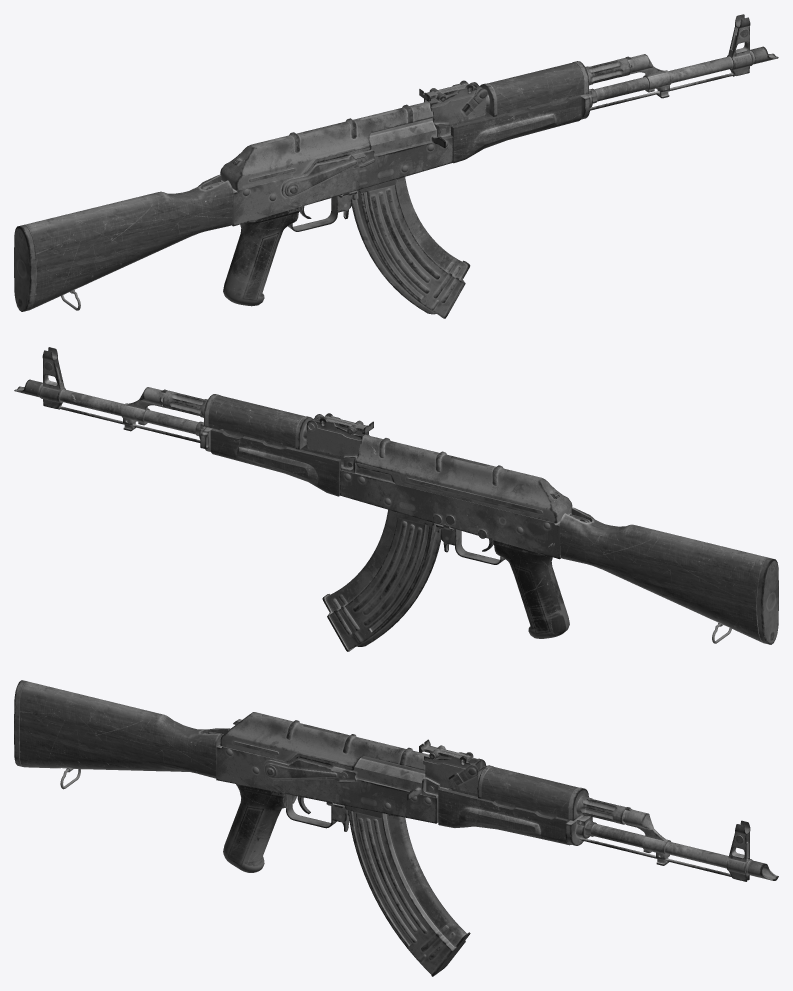
The picture shows the model from 3 angles, top to bottom: view 1: azimuth 30°, elevation 25°; view 2: azimuth 150°, elevation 25°; view 3: azimuth 330°, elevation 25°; orthographic projection.
Visible parts, largest first — view 1: l_stockWood_low, bm_magazine_low, u_dustcover_low, m_base_low, r_woodLower_low, bl_grip_low, ur_woodUpper_low, l_stockMetal_low, u_dustcoverHolder_low, r_barrel_low, m_safetyswitch_low, r_numberBase_low (+4 smaller); view 2: l_stockWood_low, u_dustcover_low, bm_magazine_low, m_base_low, r_woodLower_low, bl_grip_low, ur_woodUpper_low, l_stockMetal_low, r_barrel_low, r_numberBase_low, r_barrelAim_low, r_Connector_low (+2 smaller); view 3: l_stockWood_low, bm_magazine_low, u_dustcover_low, m_base_low, r_woodLower_low, bl_grip_low, ur_woodUpper_low, u_dustcoverHolder_low, r_barrel_low, m_safetyswitch_low, r_numberBase_low, r_Connector_low (+5 smaller).
Part boxes in pixels (box(x1,y1,x2,y2)): l_stockWood_low: box(24, 174, 233, 309); bm_magazine_low: box(351, 177, 467, 317); u_dustcover_low: box(220, 101, 433, 190); m_base_low: box(221, 132, 453, 226); r_woodLower_low: box(449, 96, 581, 163); bl_grip_low: box(223, 207, 300, 306); ur_woodUpper_low: box(487, 62, 584, 115); l_stockMetal_low: box(14, 225, 35, 311); u_dustcoverHolder_low: box(311, 118, 436, 170); r_barrel_low: box(594, 56, 733, 101); m_safetyswitch_low: box(281, 150, 375, 198); r_numberBase_low: box(431, 82, 486, 124); l_stockWood_low: box(559, 507, 768, 642); u_dustcover_low: box(355, 434, 572, 523); bm_magazine_low: box(325, 509, 441, 649); m_base_low: box(339, 464, 571, 559); r_woodLower_low: box(210, 428, 343, 496); bl_grip_low: box(492, 540, 569, 638); ur_woodUpper_low: box(208, 395, 305, 448); l_stockMetal_low: box(757, 558, 778, 644); r_barrel_low: box(59, 389, 198, 434); r_numberBase_low: box(306, 415, 369, 457); r_barrelAim_low: box(41, 347, 65, 408); r_Connector_low: box(121, 387, 167, 423); l_stockWood_low: box(19, 681, 230, 778); bm_magazine_low: box(347, 810, 466, 974); u_dustcover_low: box(220, 712, 429, 770); m_base_low: box(216, 744, 451, 823); r_woodLower_low: box(438, 788, 571, 845); bl_grip_low: box(223, 784, 296, 872); ur_woodUpper_low: box(481, 766, 578, 819); u_dustcoverHolder_low: box(293, 756, 425, 793); r_barrel_low: box(591, 823, 728, 868); m_safetyswitch_low: box(263, 759, 357, 782); r_numberBase_low: box(423, 758, 486, 795); r_Connector_low: box(622, 807, 670, 854).
Size of the model in its own units: 1.92 by 0.5479 by 0.1356.
Materials: 1 (1 with a texture image).
